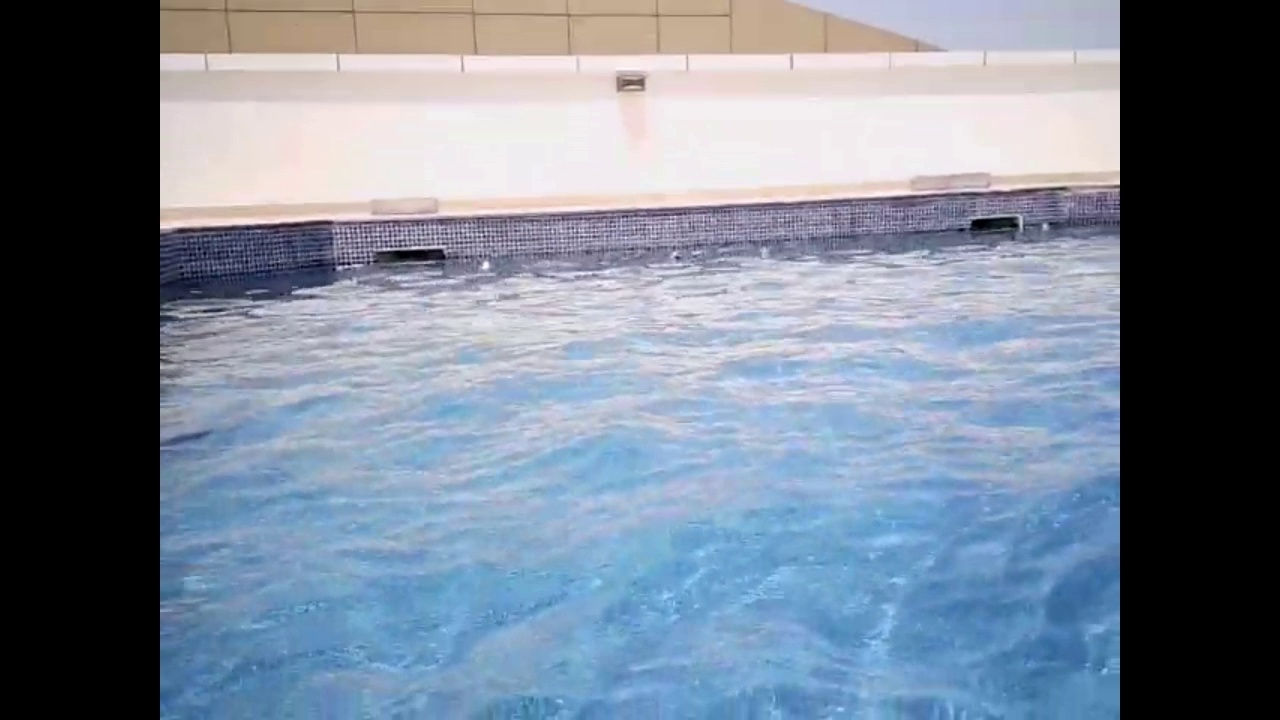debris: (670, 250, 682, 264), (1040, 219, 1050, 235), (478, 259, 491, 271)
